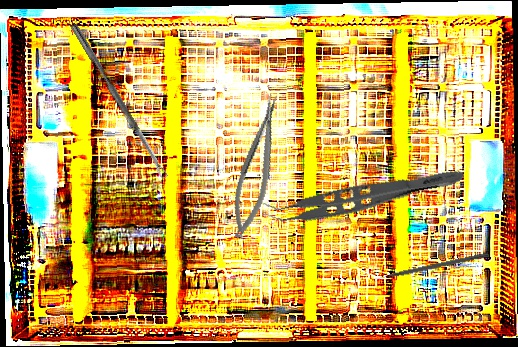Hook Surgical: (369, 251, 490, 283)
Needle Holder: (222, 92, 293, 242)
Surgical Spoon: (68, 22, 169, 180)
Tissue Forceps: (261, 152, 467, 234)
